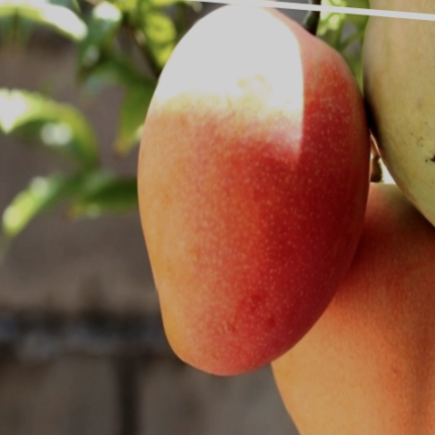mango: (98, 0, 416, 426)
